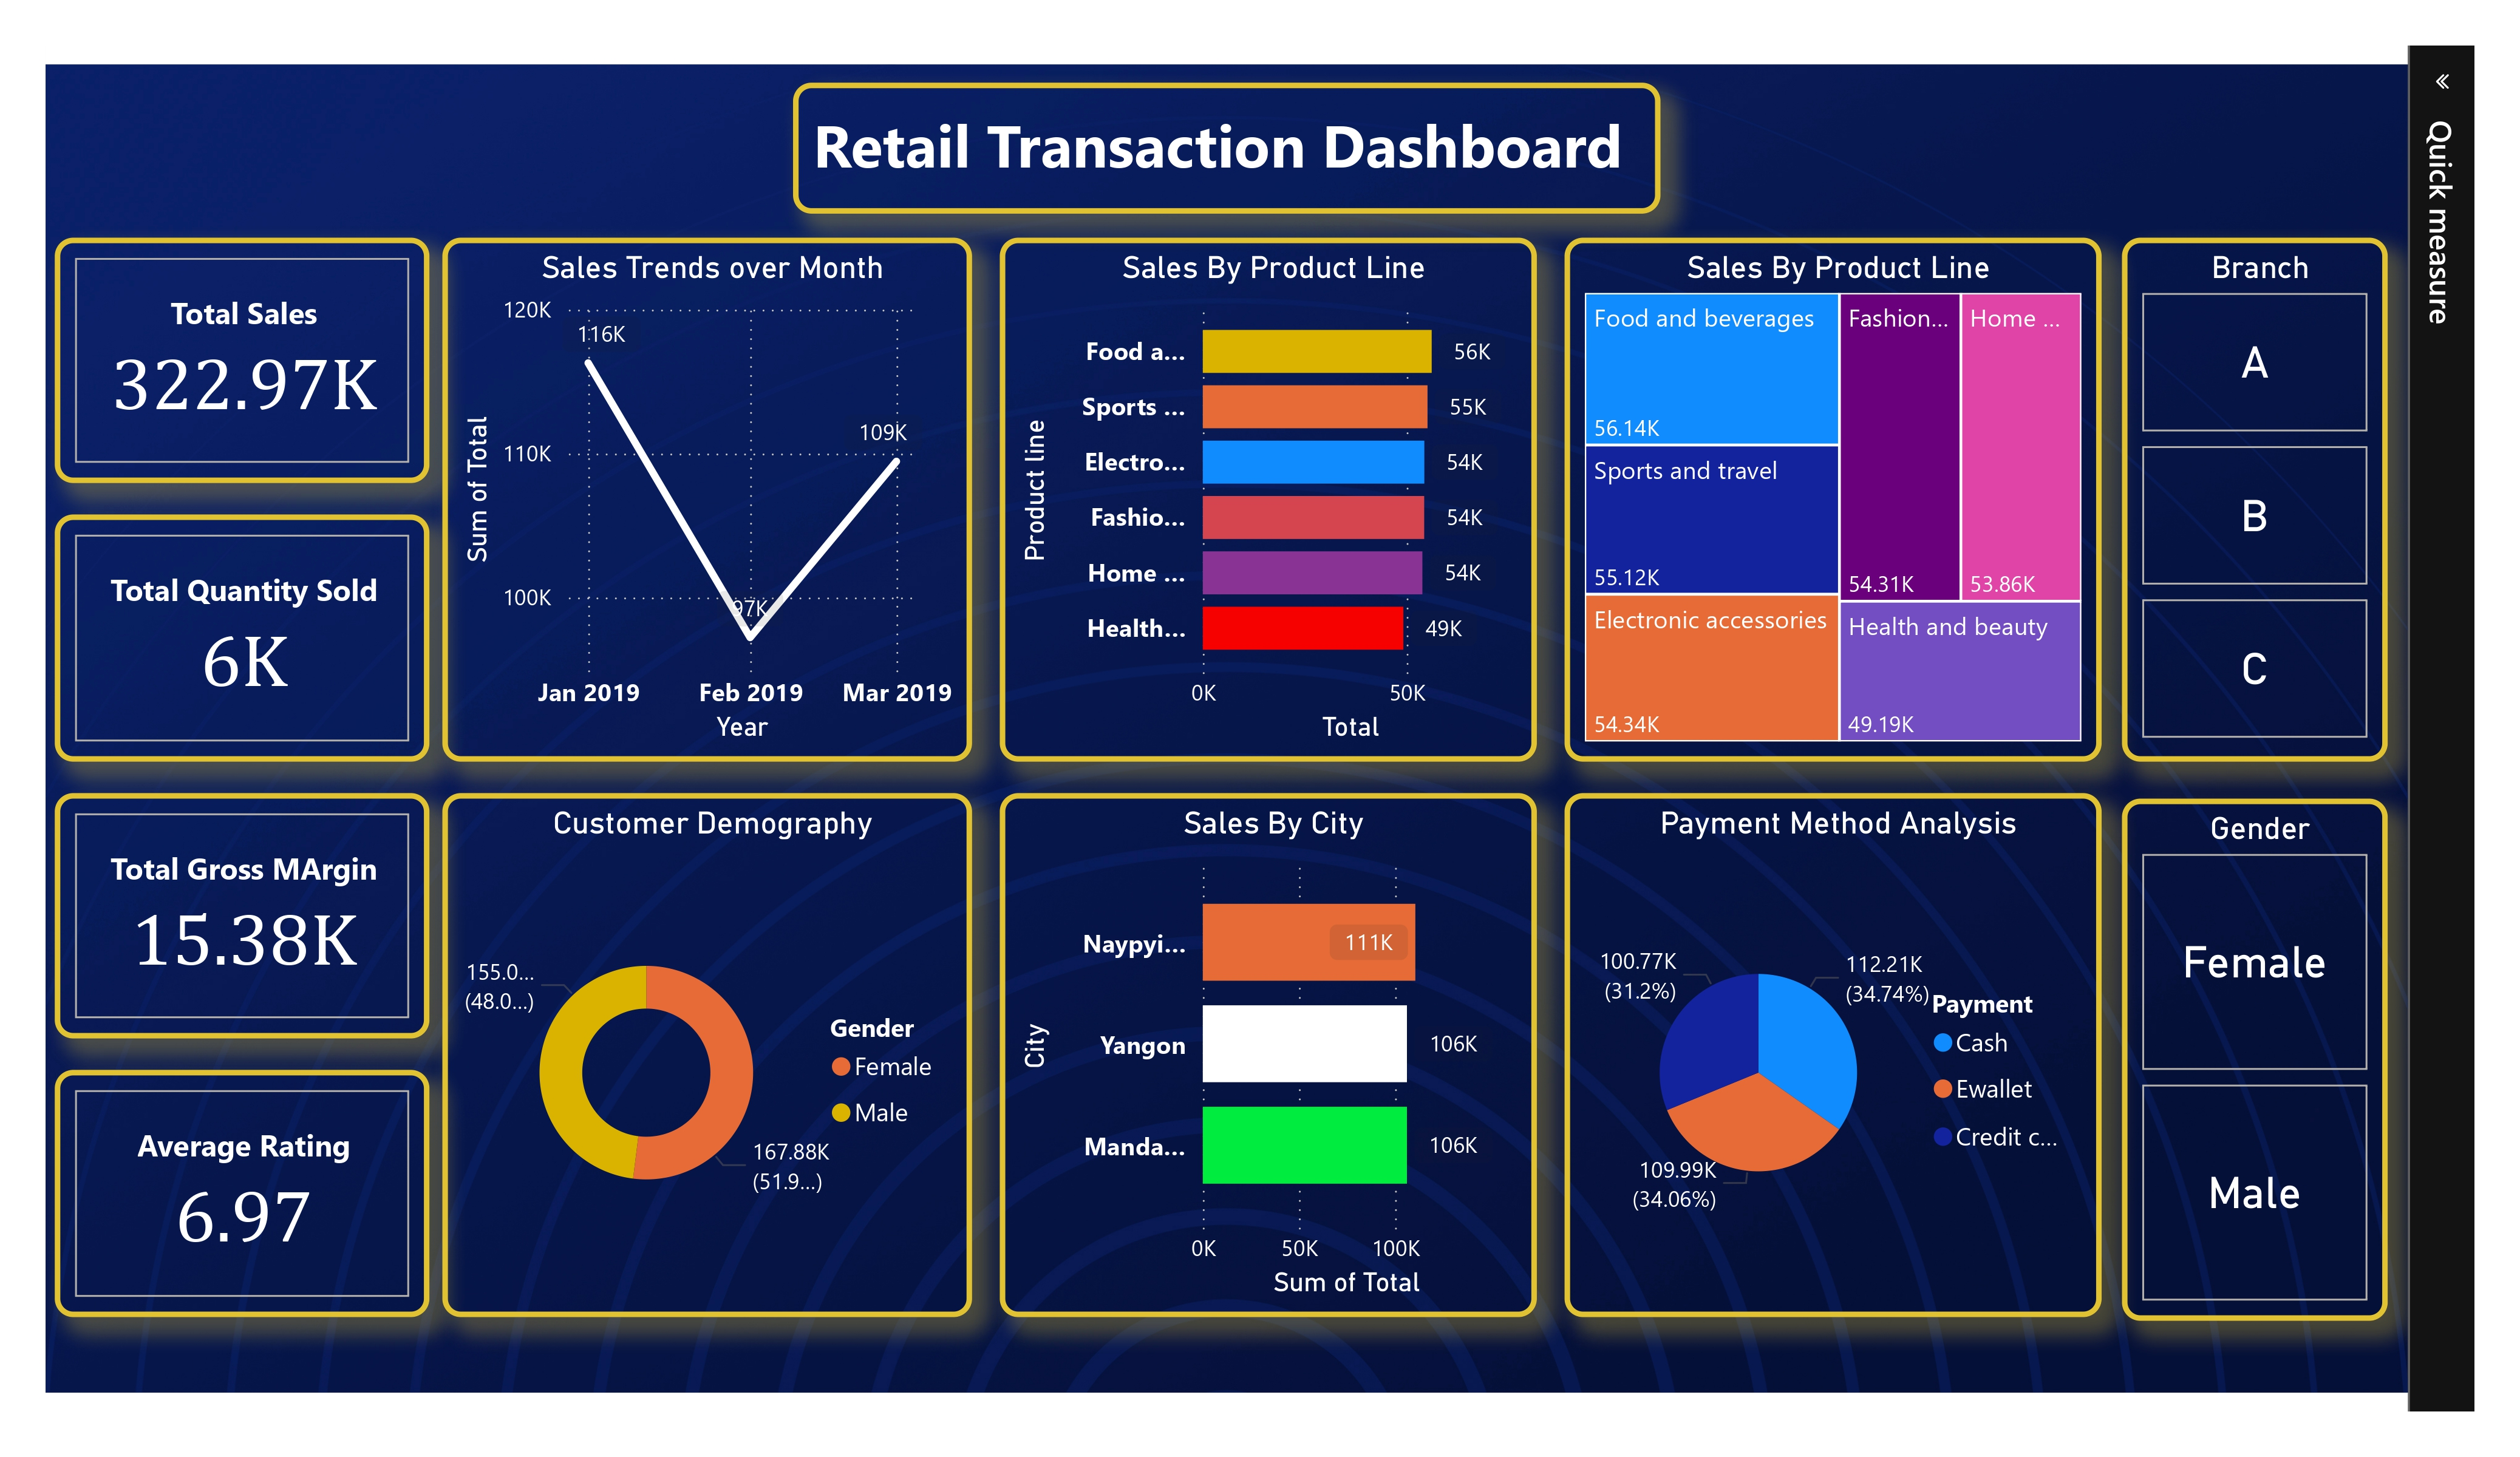

Layout of this report page (visuals, bound fields, positions):
{"tool":"powerbi","page":{"name":"Page 1","canvas":[1280,720],"ordinal":0},"visuals":[{"type":"textbox","box":[405,10,470,71.2],"z":0},{"type":"cardVisual","fields":{"Data":["Sum(Retail Transactions.Total)"]},"box":[4.8,93.7,203.3,133.3],"z":1000},{"type":"cardVisual","fields":{"Data":["Sum(Retail Transactions.Quantity)"]},"box":[4.8,244.5,203.3,133.3],"z":2000},{"type":"cardVisual","fields":{"Data":["Sum(Retail Transactions.gross income)"]},"box":[4.8,394.9,203.3,133.3],"z":3000},{"type":"cardVisual","fields":{"Data":["Avg(Retail Transactions.Rating)"]},"box":[4.8,545.2,203.6,133.6],"z":4000},{"type":"lineChart","title":"Sales Trends over Month","fields":{"Category":["Retail Transactions.Date.Variation.Date Hierarchy.Year","Retail Transactions.Date.Variation.Date Hierarchy.Month"],"Y":["Sum(Retail Transactions.Total)"]},"box":[214.8,93.9,287.3,283.6],"z":5000},{"type":"donutChart","title":"Customer Demography","fields":{"Category":["Retail Transactions.Gender"],"Y":["Sum(Retail Transactions.Total)"]},"box":[214.8,395.2,287.3,283.6],"z":6000},{"type":"barChart","title":"Sales By Product Line","fields":{"Category":["Retail Transactions.Product line"],"Y":["Sum(Retail Transactions.Total)"]},"box":[516.6,93.9,290.9,283.6],"z":6001},{"type":"barChart","title":"Sales By City","fields":{"Category":["Retail Transactions.City"],"Y":["Sum(Retail Transactions.Total)"]},"box":[516.6,395.2,290.9,283.6],"z":6002},{"type":"treemap","title":"Sales By Product Line","fields":{"Group":["Retail Transactions.Product line"],"Values":["Sum(Retail Transactions.Total)"]},"box":[823,93.9,290.9,283.6],"z":6003},{"type":"pieChart","title":"Payment Method Analysis","fields":{"Category":["Retail Transactions.Payment"],"Y":["Sum(Retail Transactions.Total)"]},"box":[823,395.2,290.9,283.6],"z":6004},{"type":"advancedSlicerVisual","fields":{"Values":["Retail Transactions.Branch"]},"box":[1125,93.8,143.8,283.8],"z":6005},{"type":"advancedSlicerVisual","fields":{"Values":["Retail Transactions.Gender"]},"box":[1125,397.5,143.8,283.8],"z":6006}]}

Visuals, with their boxes in screenshot pixels (x1, y1, x2, y2):
textbox: {"x1": 785, "y1": 64, "x2": 1665, "y2": 198}
cardVisual - Sum(Retail Transactions.Total): {"x1": 35, "y1": 222, "x2": 416, "y2": 471}
cardVisual - Sum(Retail Transactions.Quantity): {"x1": 35, "y1": 504, "x2": 416, "y2": 753}
cardVisual - Sum(Retail Transactions.gross income): {"x1": 35, "y1": 786, "x2": 416, "y2": 1035}
cardVisual - Avg(Retail Transactions.Rating): {"x1": 35, "y1": 1067, "x2": 417, "y2": 1317}
"Sales Trends over Month" lineChart: {"x1": 429, "y1": 222, "x2": 967, "y2": 753}
"Customer Demography" donutChart: {"x1": 429, "y1": 786, "x2": 967, "y2": 1317}
"Sales By Product Line" barChart: {"x1": 993, "y1": 222, "x2": 1539, "y2": 753}
"Sales By City" barChart: {"x1": 993, "y1": 786, "x2": 1539, "y2": 1317}
"Sales By Product Line" treemap: {"x1": 1567, "y1": 222, "x2": 2113, "y2": 753}
"Payment Method Analysis" pieChart: {"x1": 1567, "y1": 786, "x2": 2113, "y2": 1317}
advancedSlicerVisual - Retail Transactions.Branch: {"x1": 2133, "y1": 222, "x2": 2402, "y2": 753}
advancedSlicerVisual - Retail Transactions.Gender: {"x1": 2133, "y1": 790, "x2": 2402, "y2": 1322}
